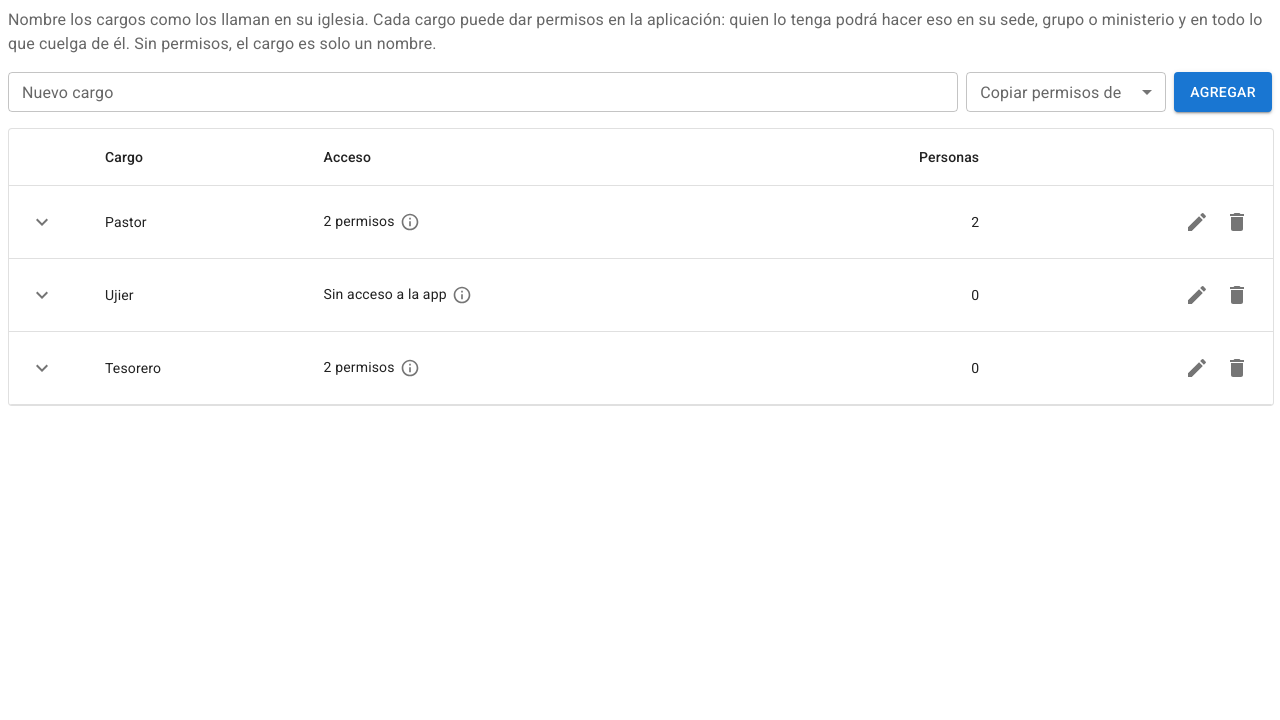
PositionsManager › marks the signed-in user among the people who hold a position
Click the button named "Abrir Pastor": (42, 222) x1=25 y1=205 x2=59 y2=239
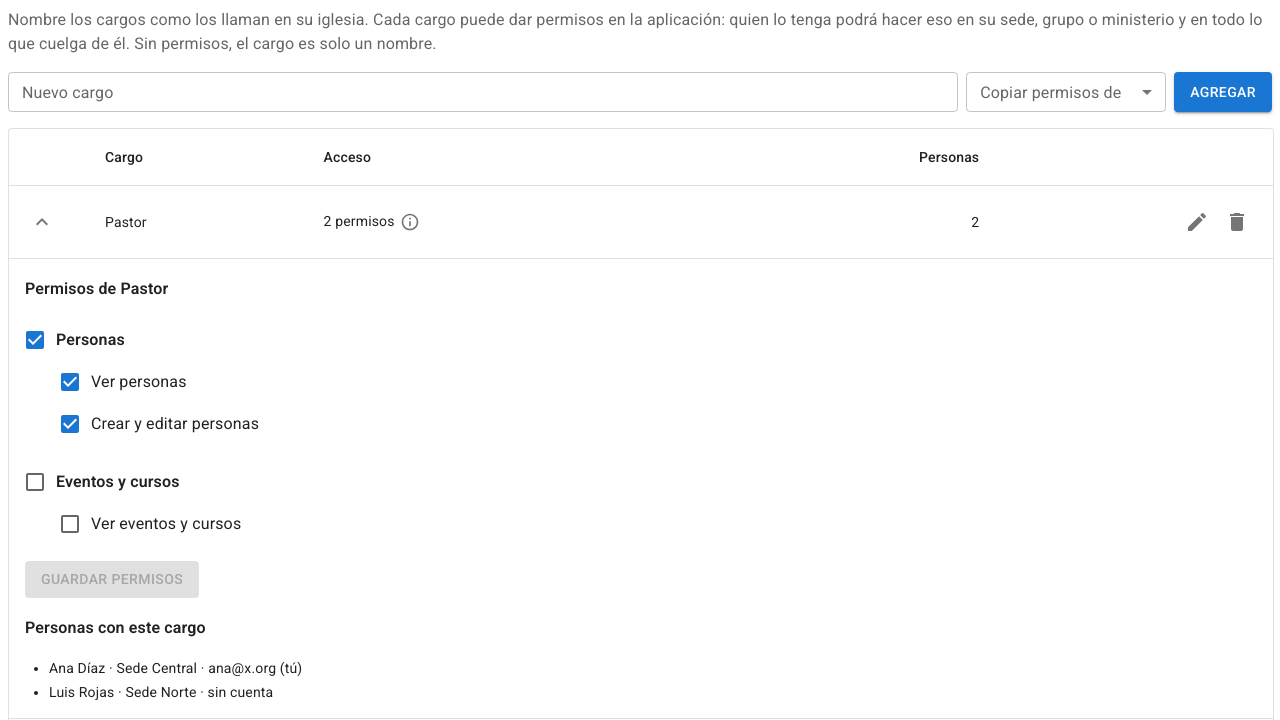
Expected: the text "Ana Díaz · Sede Central · ana@x.org (tú)" is shown, x1=49 y1=660 x2=302 y2=676
